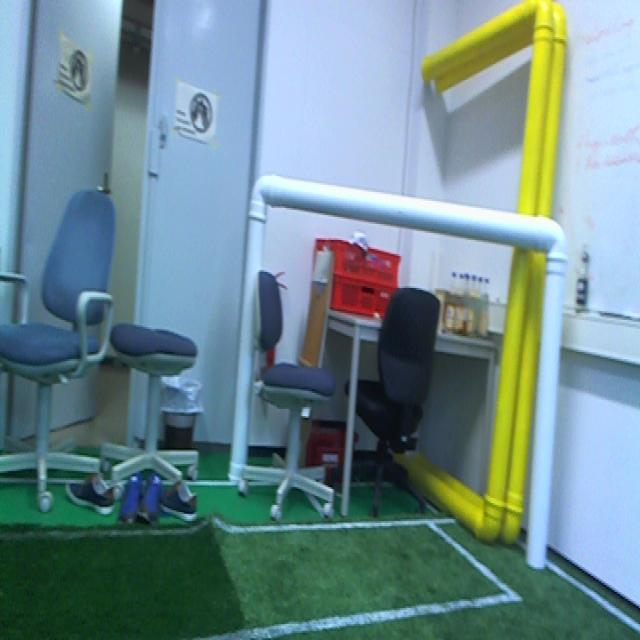goalpost: (526, 220, 565, 566), (228, 182, 264, 494)
